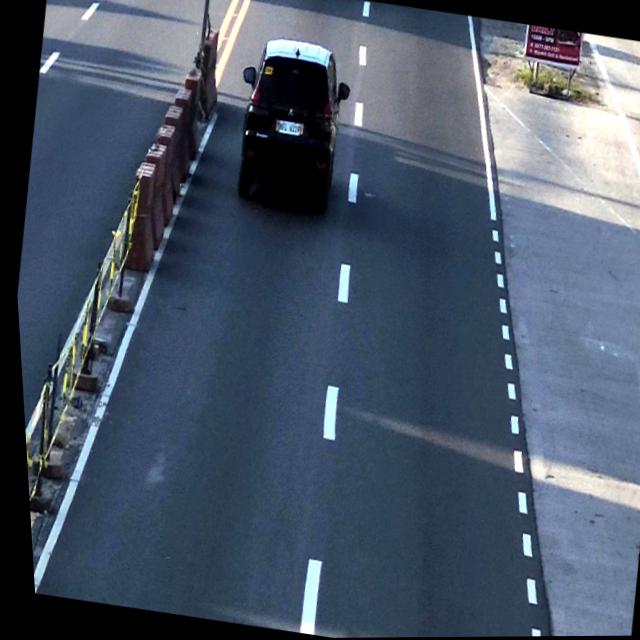Car: (229, 39, 353, 215)
License-Plate: (273, 114, 304, 139)
